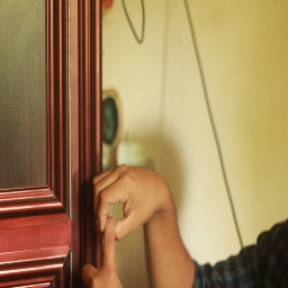Q: (73, 161, 169, 283)
